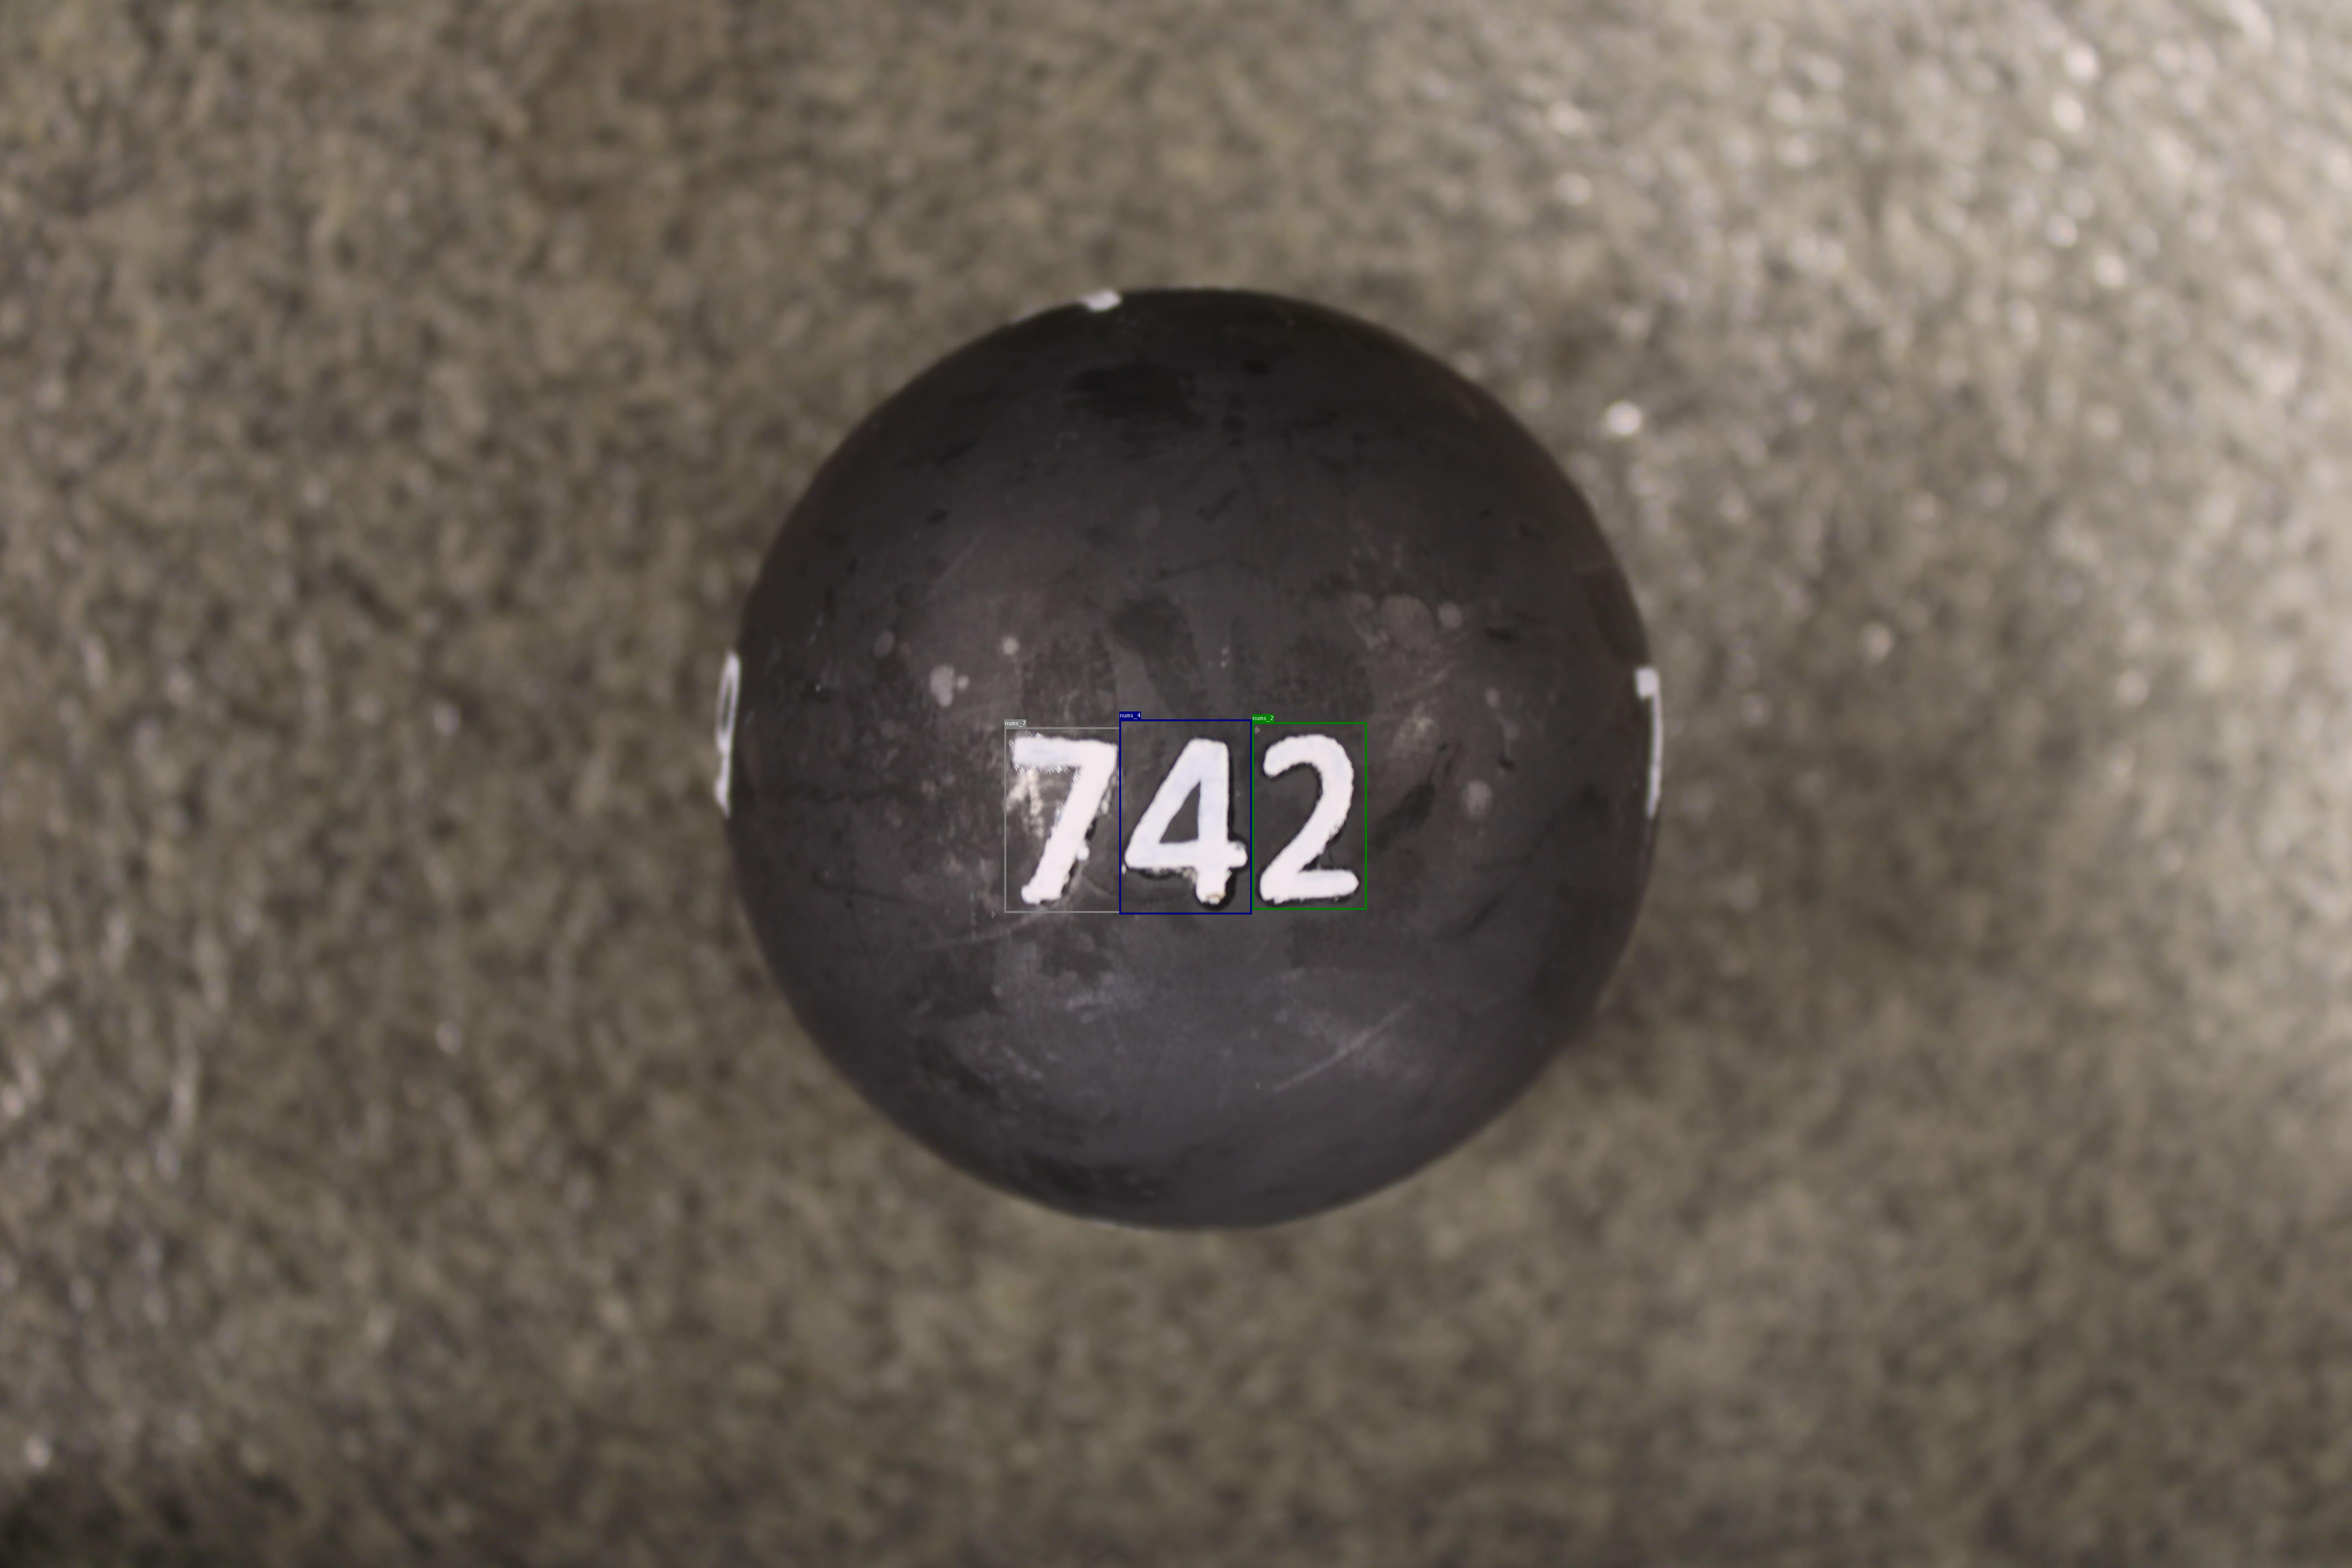nums_2: (1251, 723, 1367, 910)
nums_4: (1120, 719, 1251, 914)
nums_7: (1004, 728, 1120, 912)
